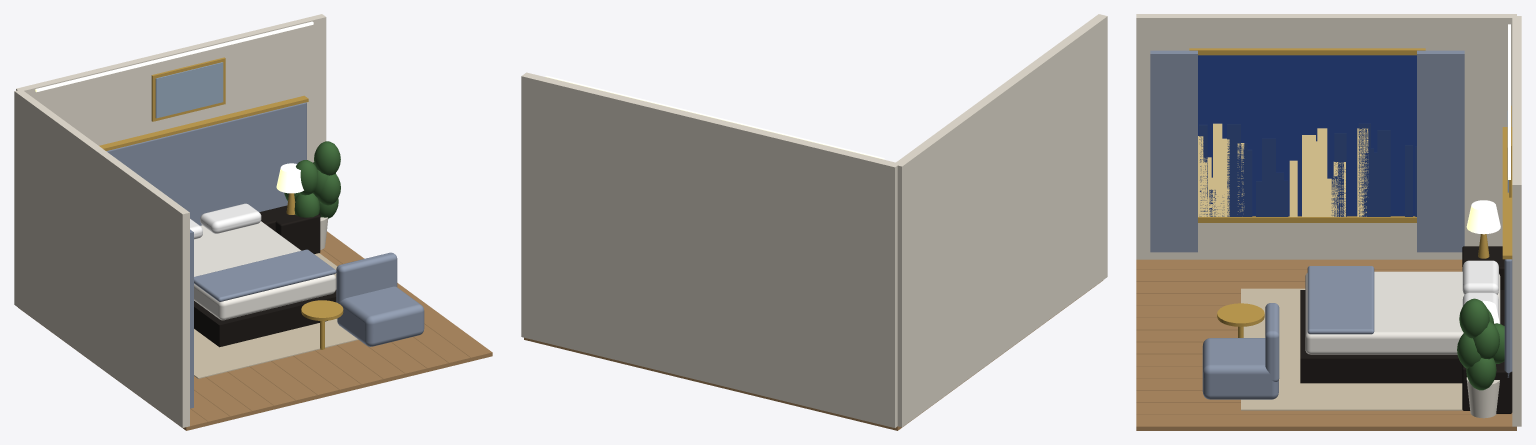
The model's file is standard.glb.
3 views of the same model, side by side, from view 1: azimuth 30°, elevation 25°; view 2: azimuth 150°, elevation 25°; view 3: azimuth 270°, elevation 25° (orthographic). The views are drawn at different scales.
Parts seen in each view (by area): view 1: LuxuryStay standard room; view 2: LuxuryStay standard room; view 3: LuxuryStay standard room.
Boxes of the visible parts, bbox=[...] form: LuxuryStay standard room: bbox=[14, 14, 492, 430]; LuxuryStay standard room: bbox=[521, 14, 1107, 430]; LuxuryStay standard room: bbox=[1136, 14, 1521, 430].
Size of the model in its own units: 4.25 by 2.85 by 4.05.
